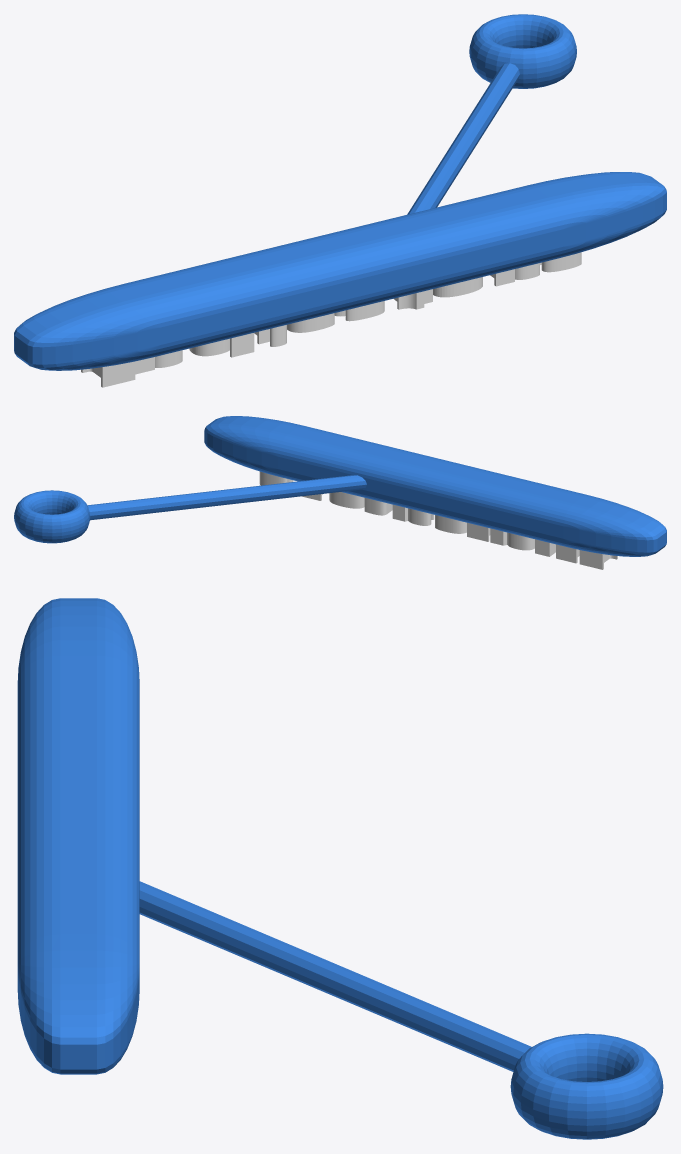
Rendered from indicators.obj.
3 views of the same model, one above another, from view 1: azimuth 30°, elevation 25°; view 2: azimuth 150°, elevation 25°; view 3: azimuth 270°, elevation 25° (orthographic). The views are drawn at different scales.
Visible parts, largest first — view 1: group_0_3836137, group_0_16448250; view 2: group_0_3836137, group_0_16448250; view 3: group_0_3836137.
Part boxes in pixels (<box>): group_0_3836137: <box>14,14,666,370</box>; group_0_16448250: <box>81,252,581,387</box>; group_0_3836137: <box>14,416,666,556</box>; group_0_16448250: <box>259,471,617,569</box>; group_0_3836137: <box>17,598,663,1139</box>.
Size of the model in its own units: 39 by 4 by 21.14.
